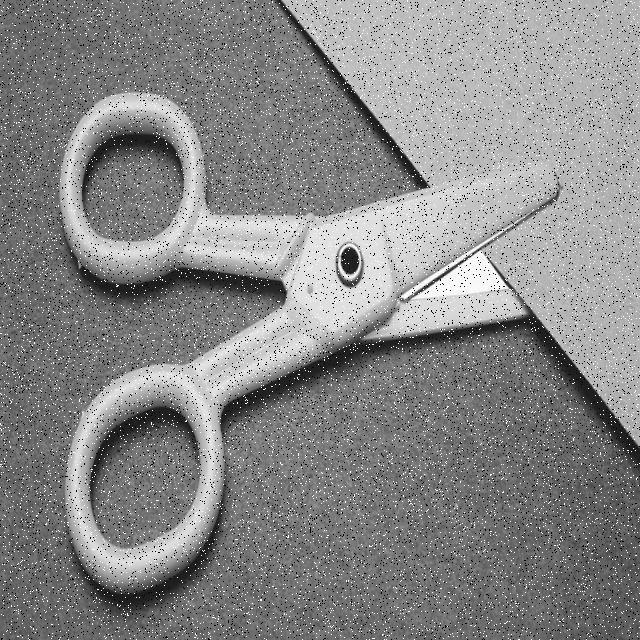scissors: (58, 86, 568, 600)
